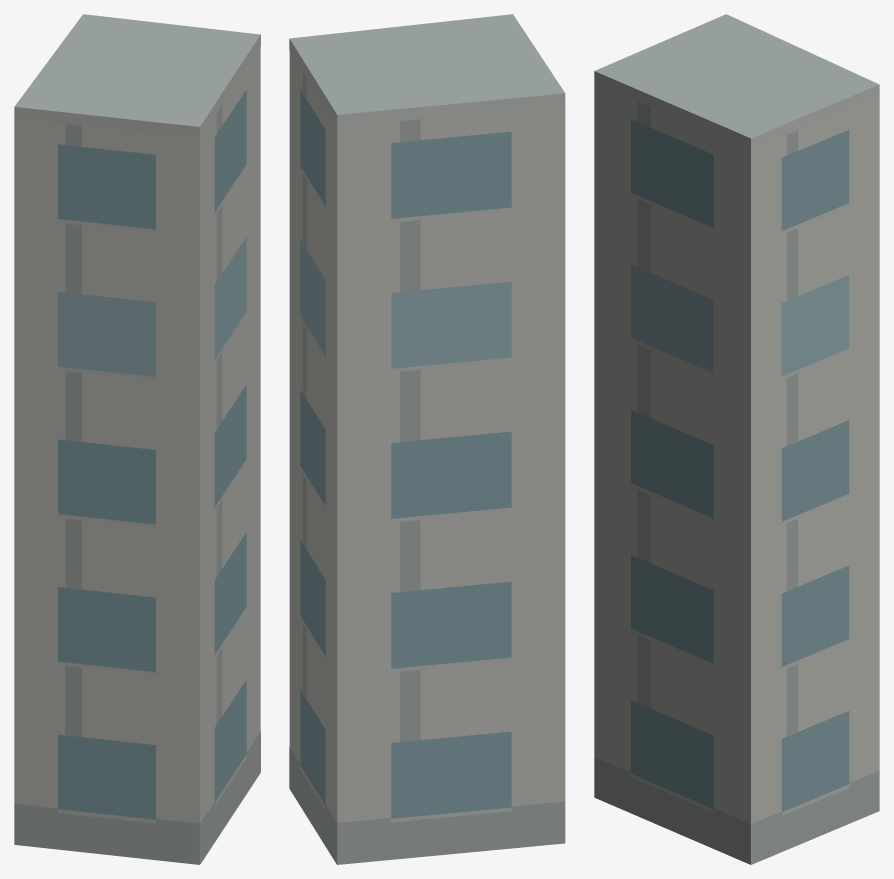
File: survey-upis-32783501.glb
3 renders of one model, left to right at view 1: azimuth 30°, elevation 25°; view 2: azimuth 150°, elevation 25°; view 3: azimuth 270°, elevation 25°, orthographic. The views are drawn at different scales.
Parts seen in each view (by area): view 1: survey-upis-32783501.tmp; view 2: survey-upis-32783501.tmp; view 3: survey-upis-32783501.tmp.
Boxes of the visible parts, bbox=[...] form: survey-upis-32783501.tmp: bbox=[14, 14, 260, 864]; survey-upis-32783501.tmp: bbox=[289, 14, 565, 864]; survey-upis-32783501.tmp: bbox=[594, 14, 879, 864].
Bounding box in the file's own units: 5.61 × 15.25 × 5.43.
